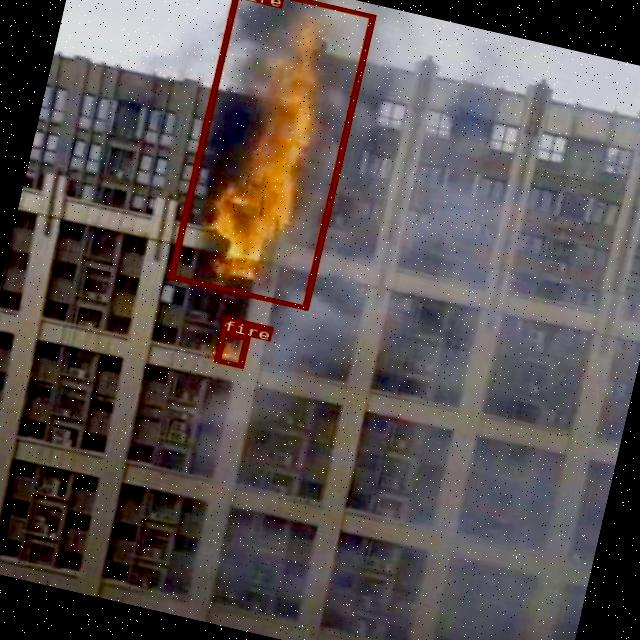fire: (167, 0, 374, 309), (214, 329, 248, 367)
